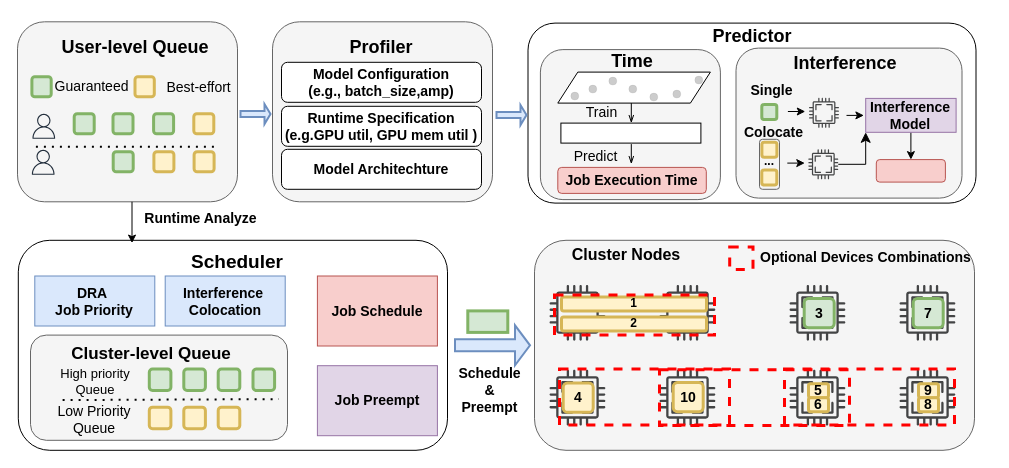
The diagram is 1009 pixels wide and 468 high, and some of its shapes have lost their labels. Each missing label, with the centre of its shape:
2GPU: the point at 487,321
Decay: the point at 910,170
Tree: the point at 630,132
